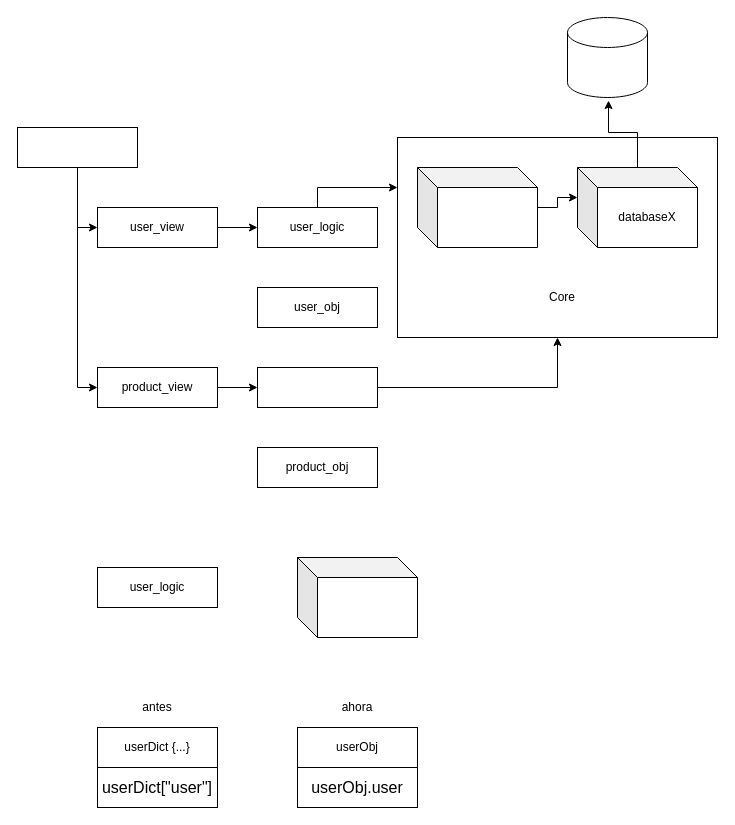
Image size: 735x825. Some labels were removed from this diagram. The shapes that lost their labels are listed below. From the top down, each one's box as (x1, y1, x2, y2) in pixels, then its label:
(566, 16, 648, 98): mysql
(16, 126, 138, 168): mainapp
(416, 166, 538, 248): logic
(256, 366, 378, 408): product_logic
(296, 556, 418, 638): dx_logic.py class Logic
